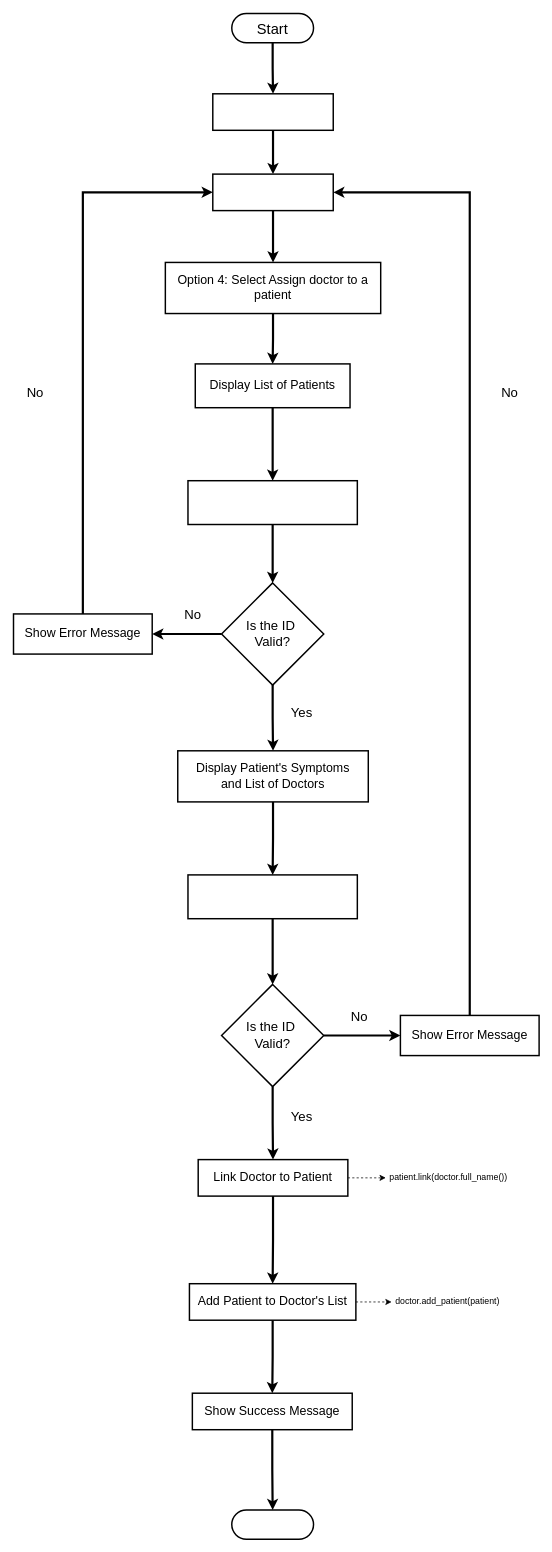
The diagram is 552 pixels wide and 1552 high, and some of its shapes have lost their labels. The box of each missing label's shape, as (x1, y1, x2, y2) in pixels:
Admin Logs In: (212, 93, 334, 131)
Admin Selects Doctor ID: (187, 874, 358, 919)
Admin Selects Patient ID: (187, 480, 358, 525)
Display Options: (212, 173, 334, 211)
End: (231, 1509, 314, 1540)
